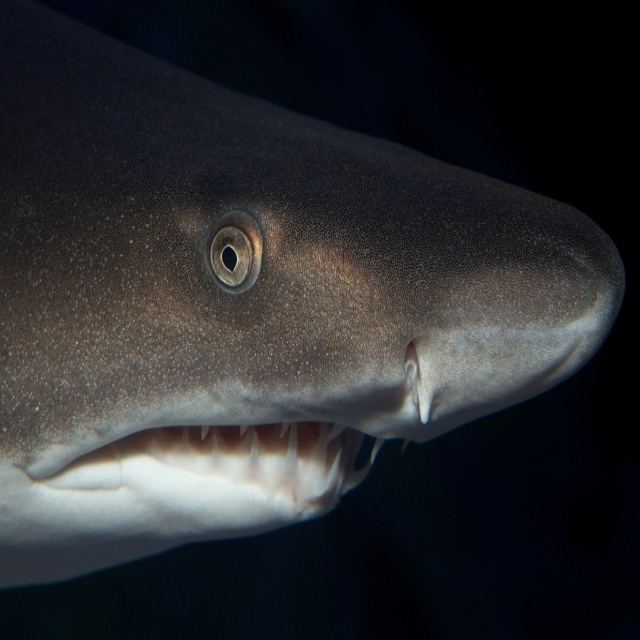Shark: (0, 2, 626, 595)
